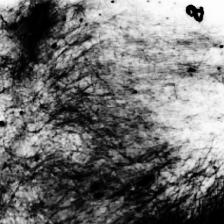Potentially Malignant Skin Tumors: (130, 168, 152, 202), (0, 93, 18, 129), (182, 0, 208, 20)
